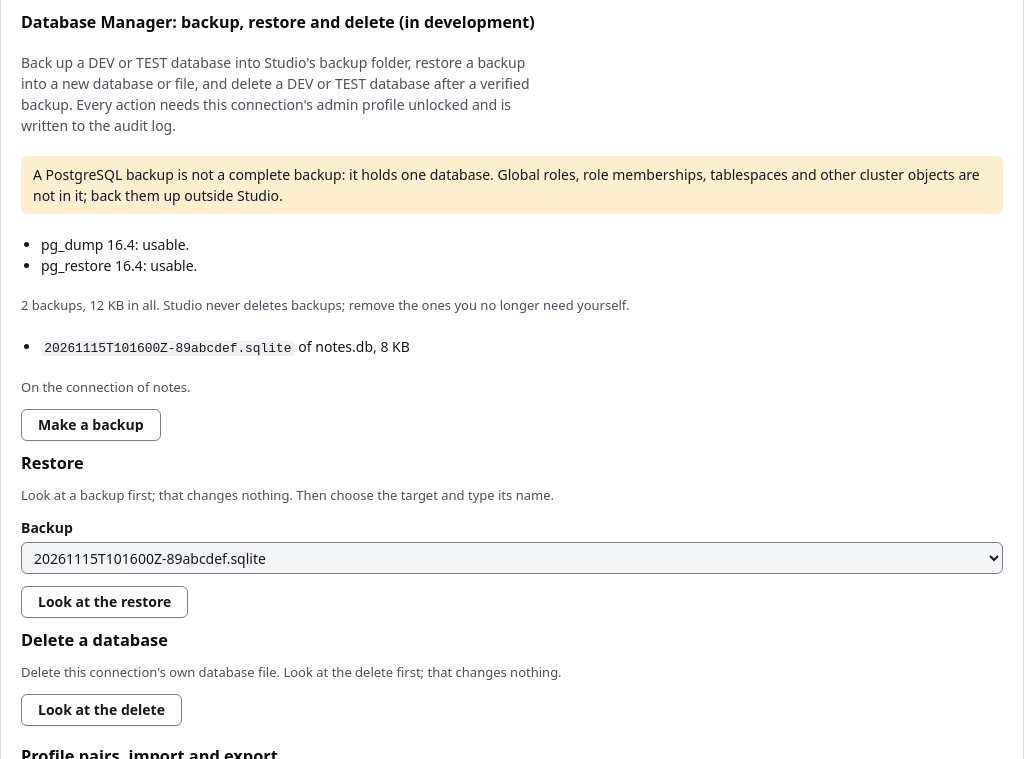
Test: the Database Manager section › deletes the SQLite connection's own file without a name or force
Click the button with test id "database-manager-delete-preview" at (102, 710), box [21,694,182,726]
(page scrolled)
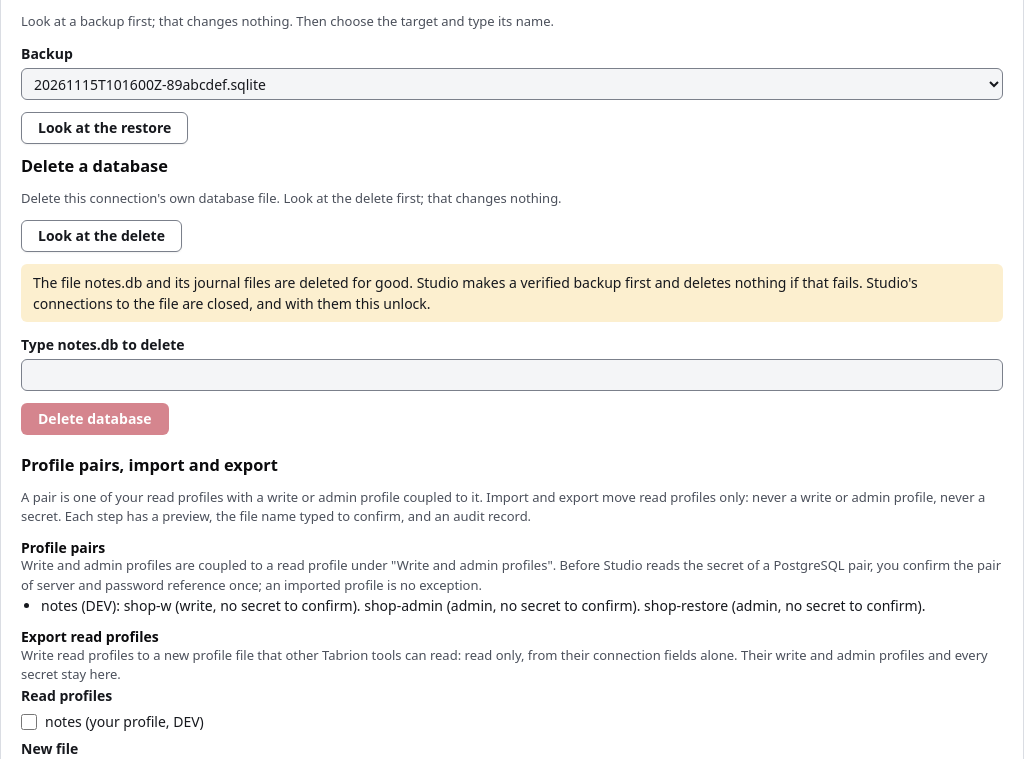
Result: the text with test id "database-manager-delete-warning" shows "The file notes.db and its journal files are deleted for good." at [33,273,918,313]
Type "notes.db" into the field labelled "Type notes.db to delete" at (512, 375), box [21,359,1003,391]
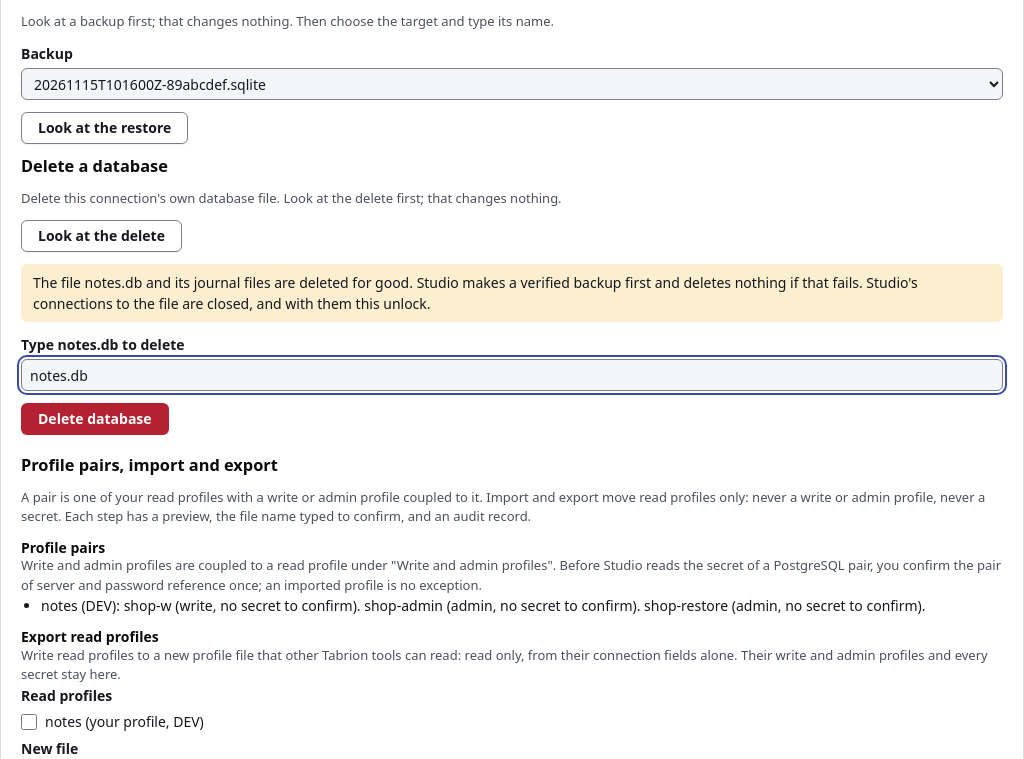
Click the button with test id "database-manager-delete-run" at (95, 419), box [21,403,169,435]
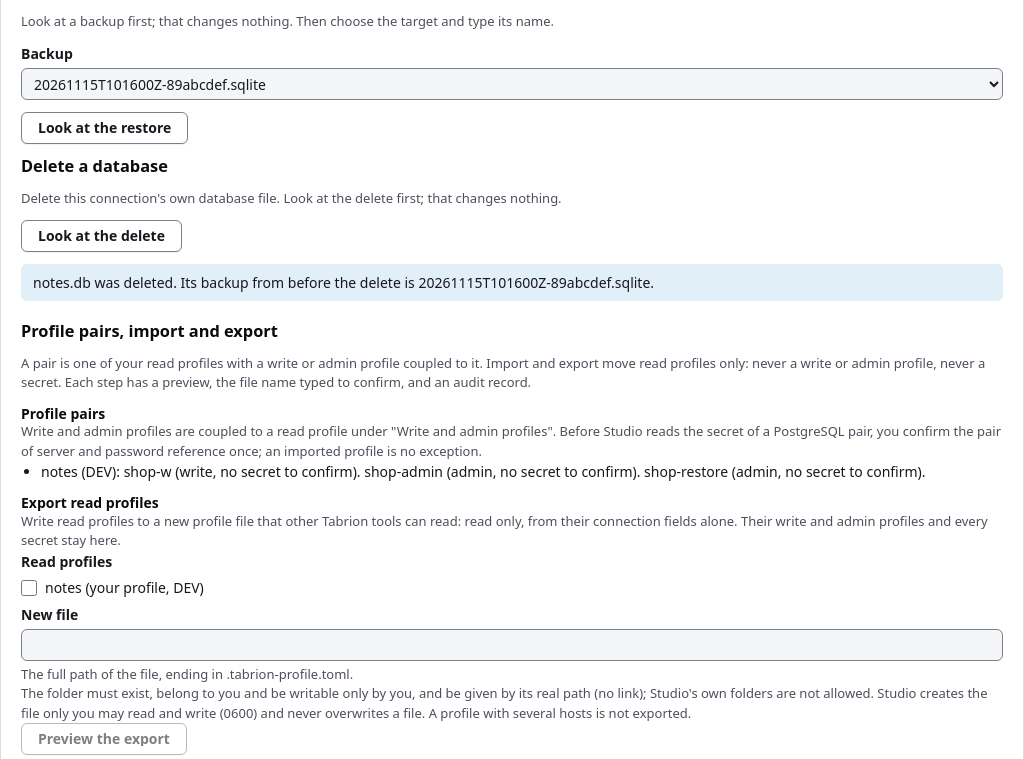
Result: the message with test id "database-manager-deleted" is shown at [21,264,1003,301]
